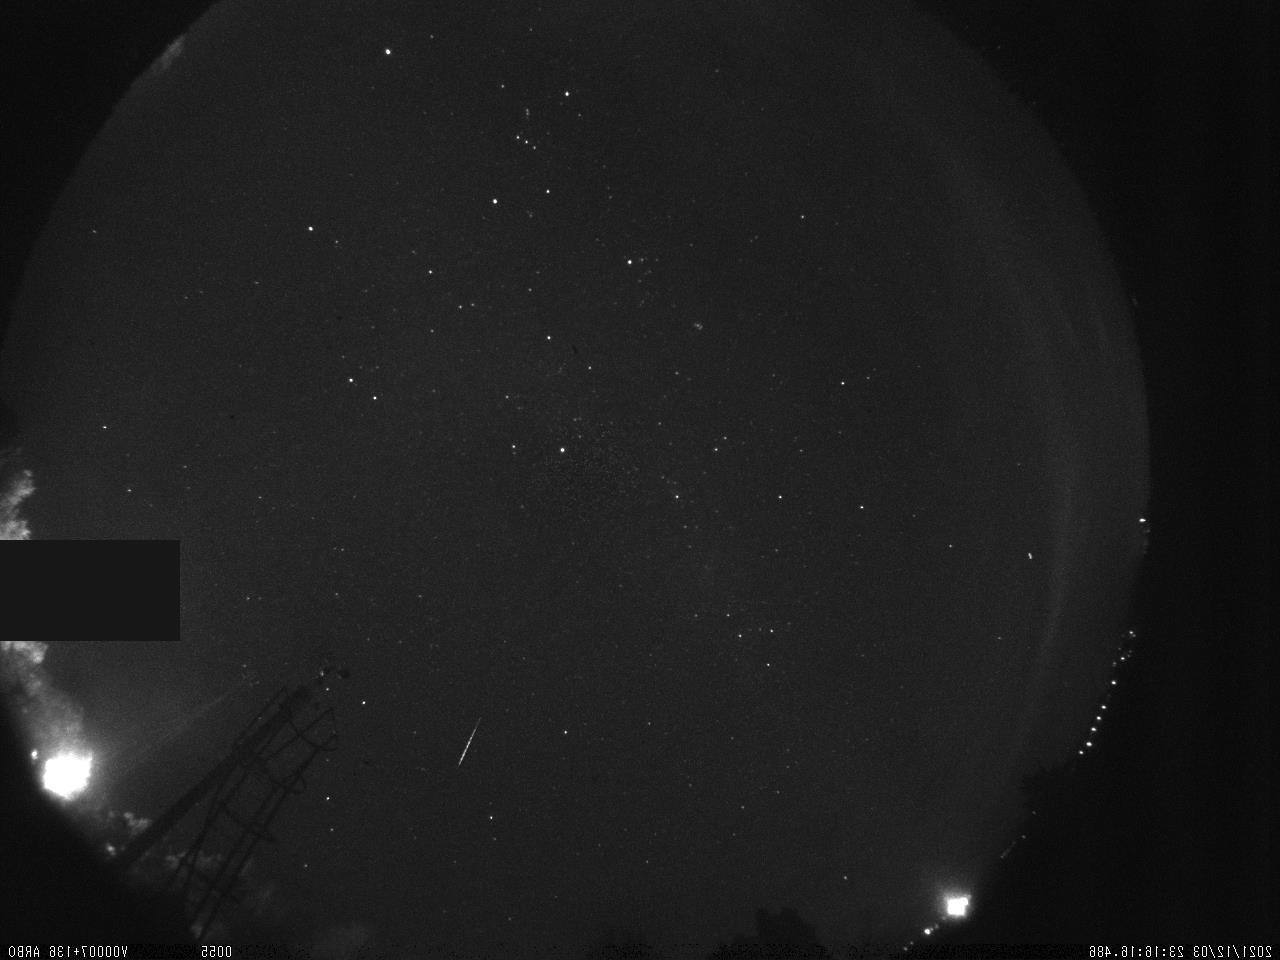meteor: (433, 704, 498, 773)
